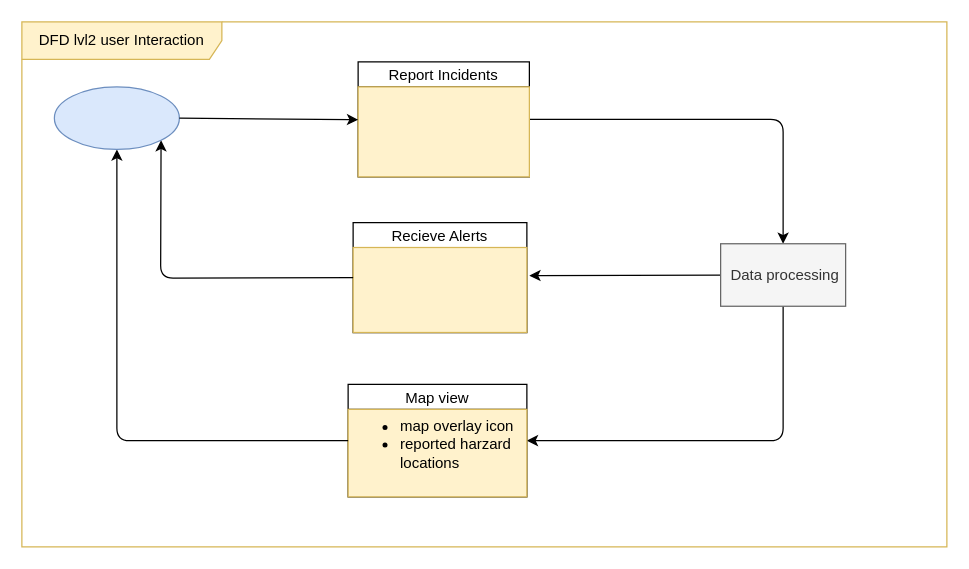
The diagram is 969 pixels wide and 569 high, and some of its shapes have lost their labels. Here are the shapes that lost their labels. From the top down, the centre of each, then its label:
pixel 116 117: User
pixel 443 131: Report harzard submit feedback
pixel 439 289: Road signs alert harzard alert Traffic alert
